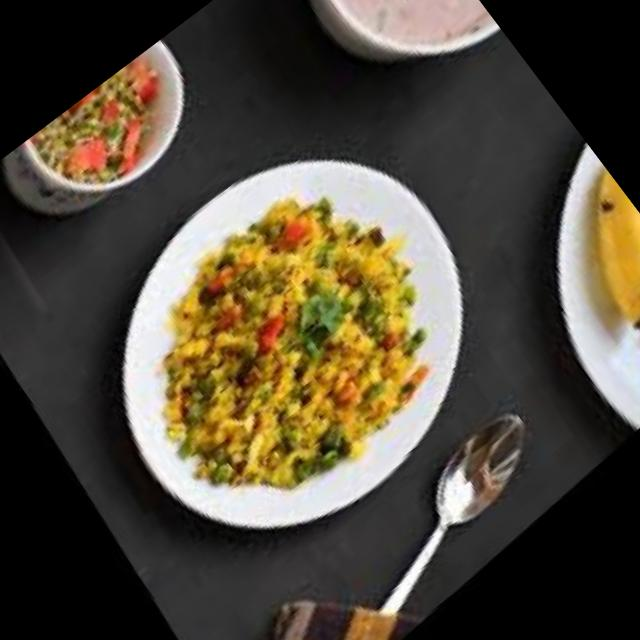poha: (78, 146, 504, 563), (612, 274, 640, 411)
